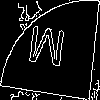M: (24, 25, 67, 77)
